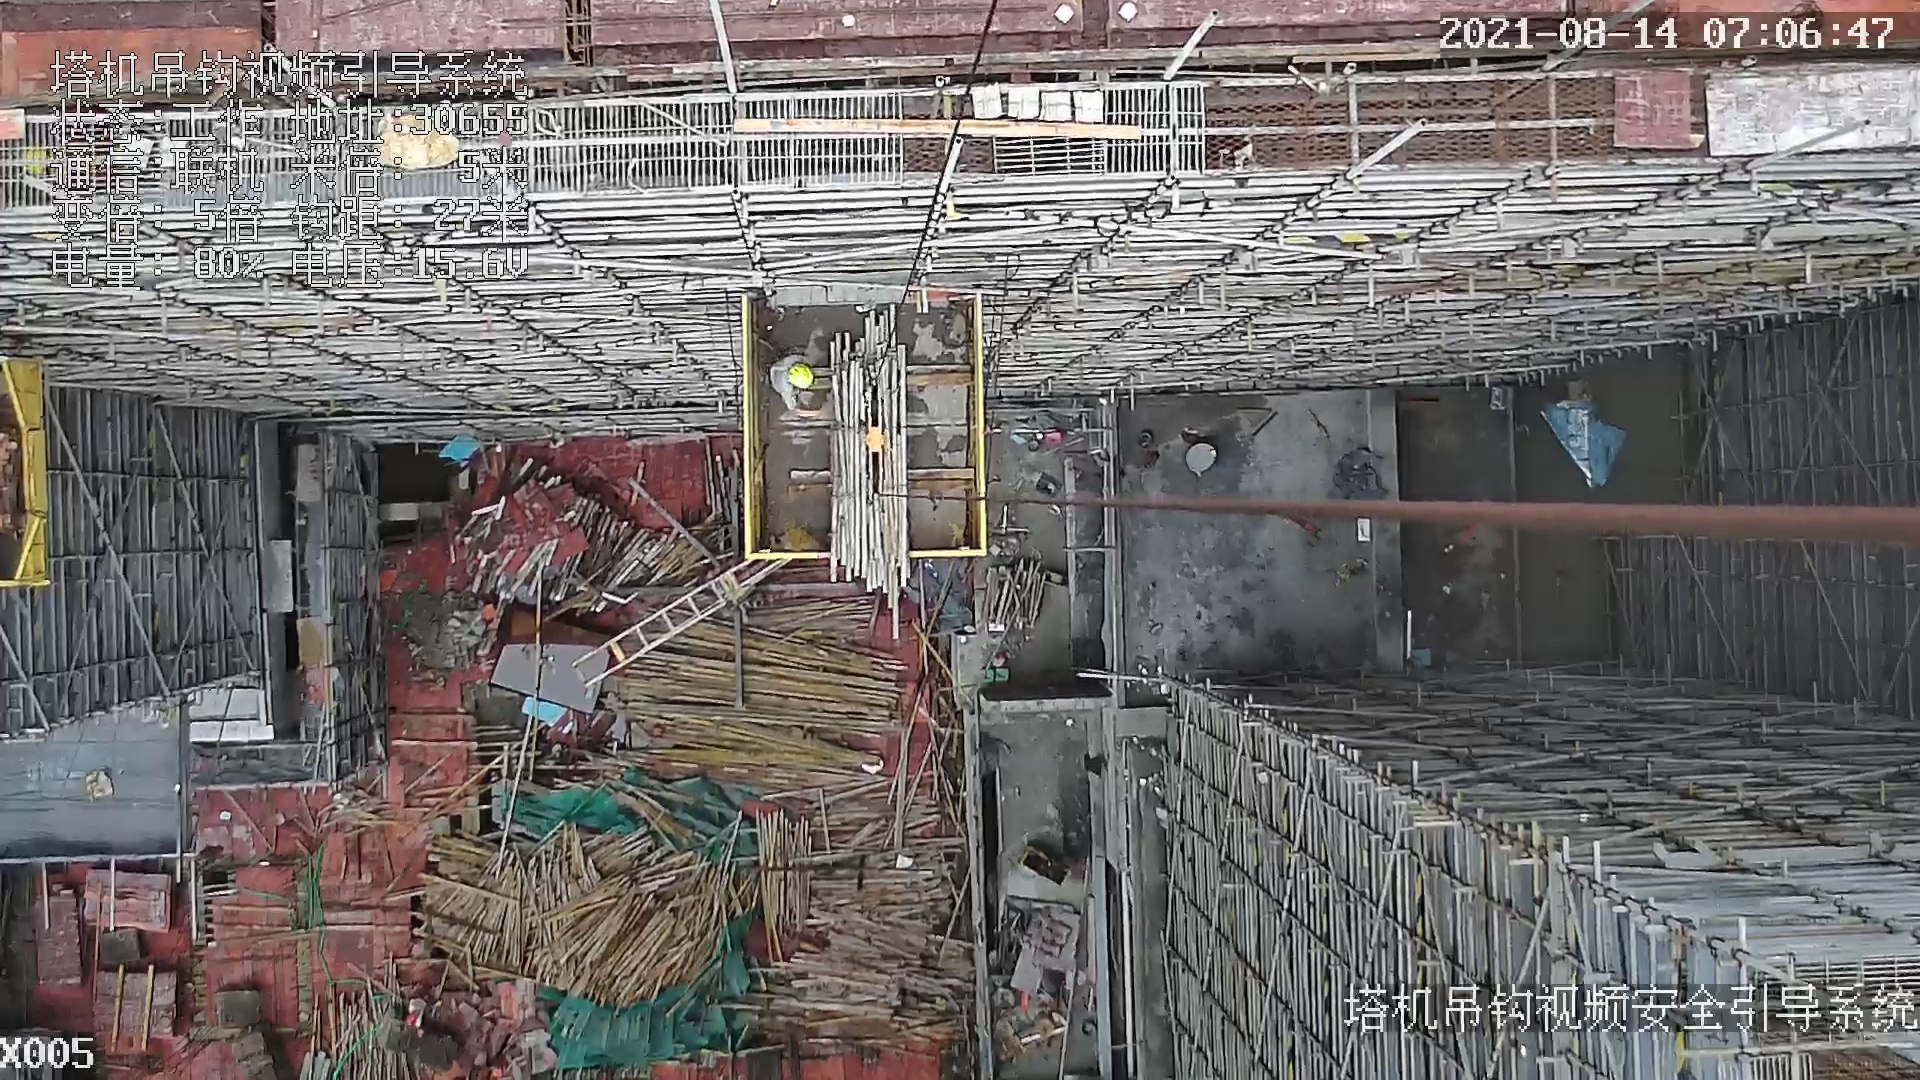helmet: (789, 362, 814, 391)
hook: (859, 373, 895, 503)
person: (769, 353, 819, 410)
